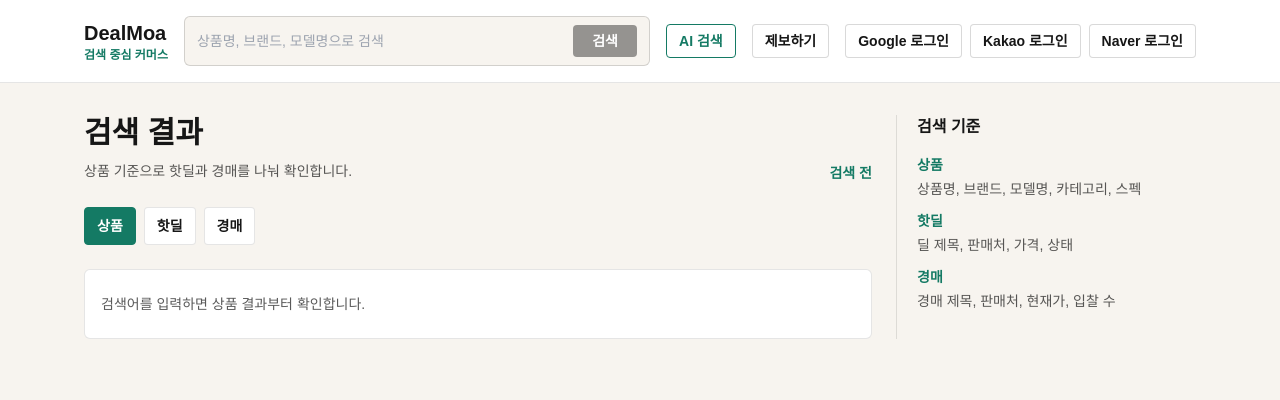
Test: SearchWorkspace › switches tabs and searches deals with the current query
This screenshot has width=1280, height=400.
expect the button "Google 로그인" is shown: met, box [845,24,962,58]
Type "galaxy" into the search field named "검색어".
click(385, 41); type("galaxy")  # box [197,31,573,51]
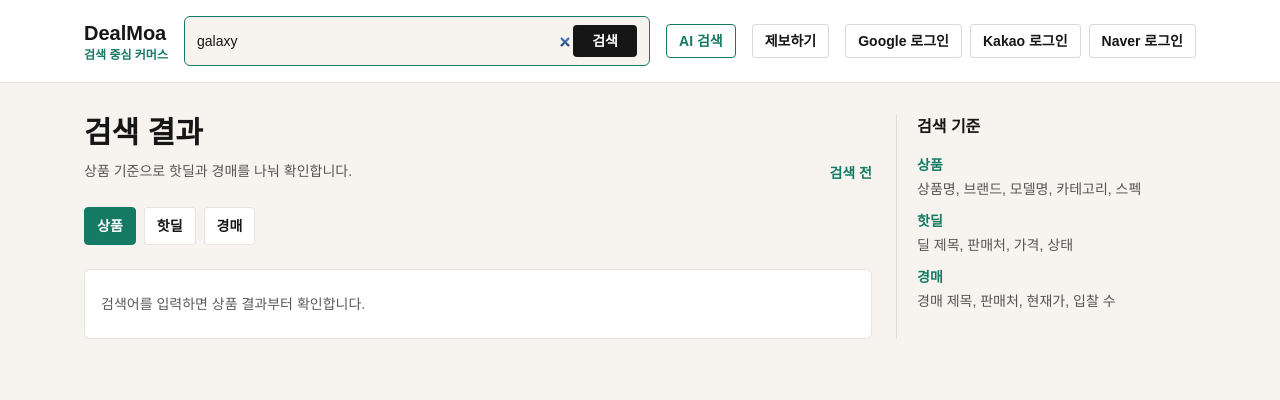
Click the tab "핫딜".
click(170, 226)  # box [144,207,196,245]
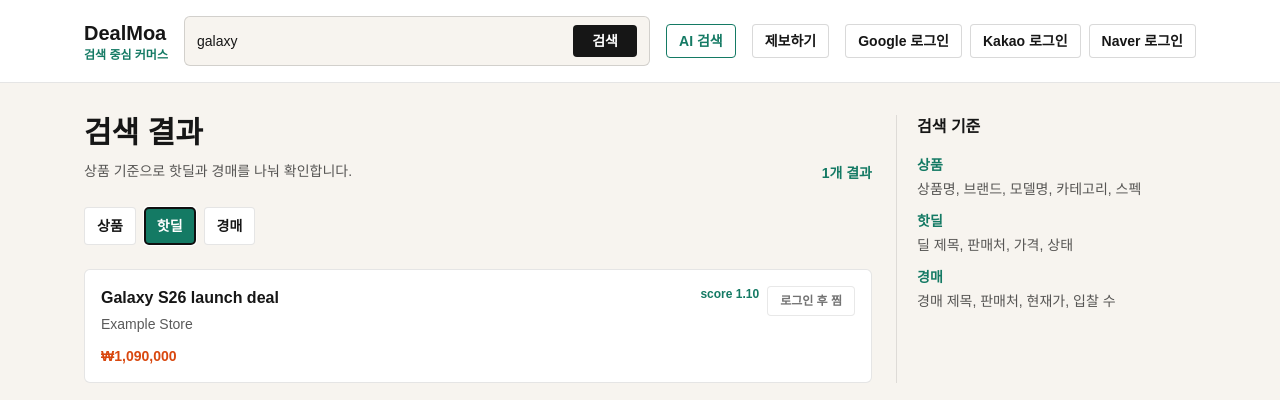
expect the link "Galaxy S26 launch deal" is shown: met, box [101,289,279,306]
